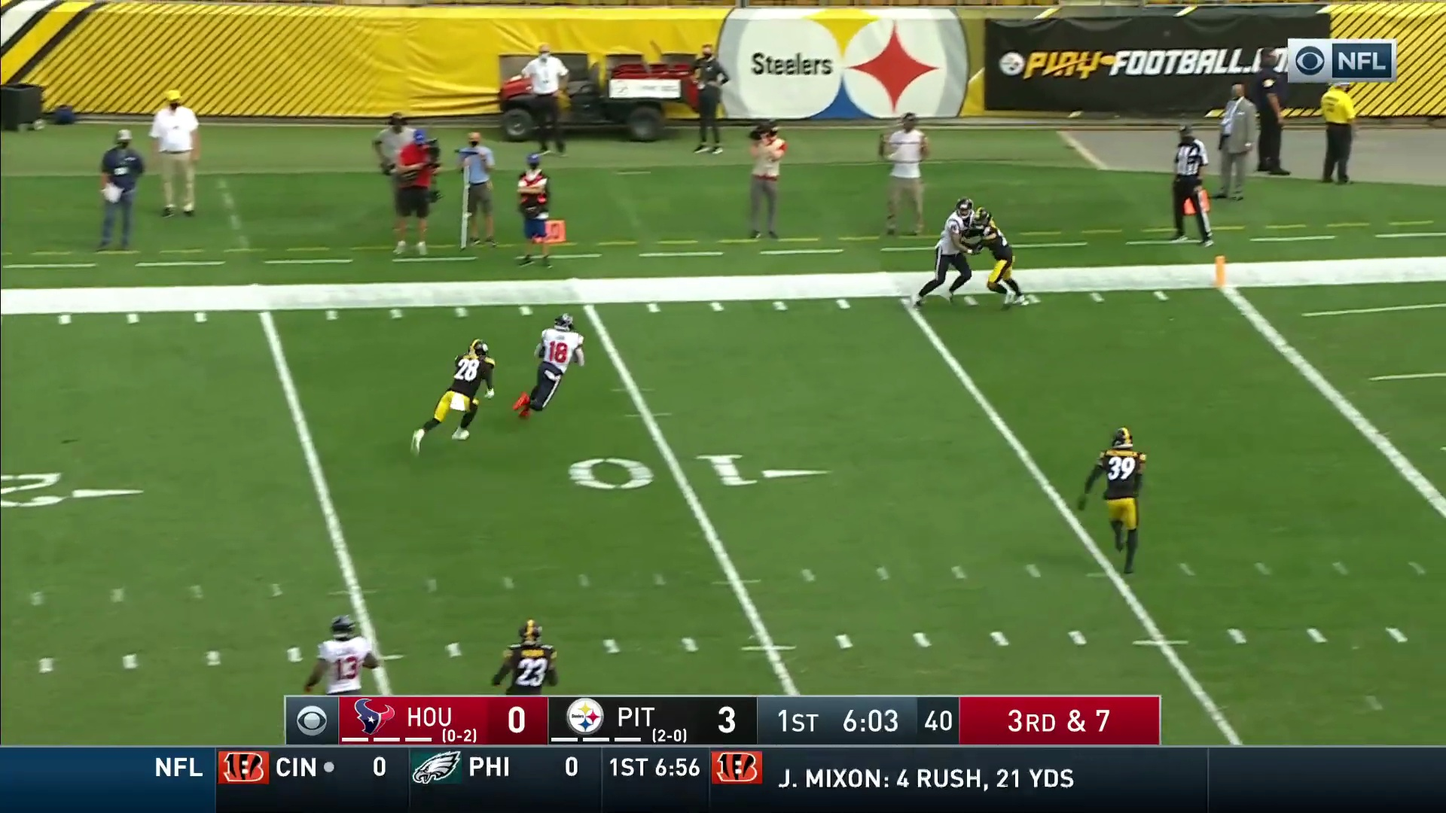Player: (317, 614, 374, 694)
